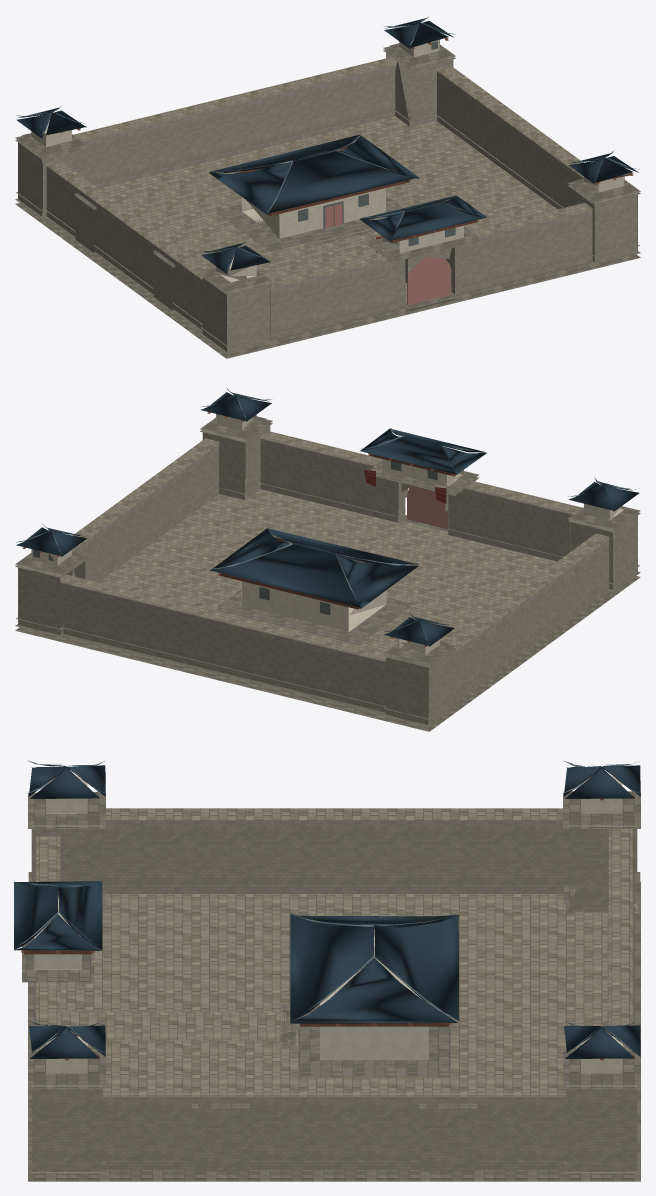
File: city-jade-1.glb
3 views of the same model, one above another, from view 1: azimuth 30°, elevation 25°; view 2: azimuth 150°, elevation 25°; view 3: azimuth 270°, elevation 25° (orthographic). The views are drawn at different scales.
Visible parts, largest first — view 1: 城墙与城门 · 城池 · 青砖墙, 城墙与城门 · 城池 · 石板铺地, 角楼 · 城池 · 青砖墙, 城内建筑 · 城池 · 青瓦, 城墙与城门 · 城池 · 深色石基, 角楼 · 城池 · 深色石基, 角楼 · 城池 · 青瓦, 城墙与城门 · 城池 · 青瓦, 城内建筑 · 城池 · 深色石基, 城内建筑 · 城池 · 灰浆墙, 城墙与城门 · 城池 · 暗红门扇, 角楼 · 城池 · 灰浆墙 (+3 smaller); view 2: 城墙与城门 · 城池 · 青砖墙, 城墙与城门 · 城池 · 石板铺地, 角楼 · 城池 · 青砖墙, 城内建筑 · 城池 · 青瓦, 城墙与城门 · 城池 · 深色石基, 角楼 · 城池 · 青瓦, 角楼 · 城池 · 深色石基, 城内建筑 · 城池 · 灰浆墙, 城墙与城门 · 城池 · 青瓦, 城内建筑 · 城池 · 深色石基, 城内建筑 · 城池 · 石板铺地, 角楼 · 城池 · 灰浆墙 (+3 smaller); view 3: 城墙与城门 · 城池 · 石板铺地, 城墙与城门 · 城池 · 青砖墙, 城内建筑 · 城池 · 青瓦, 角楼 · 城池 · 青砖墙, 城墙与城门 · 城池 · 深色石基, 角楼 · 城池 · 青瓦, 角楼 · 城池 · 深色石基, 城墙与城门 · 城池 · 青瓦, 城内建筑 · 城池 · 石板铺地, 城内建筑 · 城池 · 深色石基, 城内建筑 · 城池 · 灰浆墙, 角楼 · 城池 · 灰浆墙 (+4 smaller).
Boxes of the visible parts, x1,y1,x2,y2 form: 城墙与城门 · 城池 · 青砖墙: (42, 63, 595, 339); 城墙与城门 · 城池 · 石板铺地: (42, 57, 595, 302); 角楼 · 城池 · 青砖墙: (18, 53, 637, 351); 城内建筑 · 城池 · 青瓦: (209, 134, 418, 214); 城墙与城门 · 城池 · 深色石基: (15, 106, 640, 358); 角楼 · 城池 · 深色石基: (15, 43, 640, 353); 角楼 · 城池 · 青瓦: (16, 18, 638, 273); 城墙与城门 · 城池 · 青瓦: (360, 195, 486, 241); 城内建筑 · 城池 · 深色石基: (217, 196, 403, 251); 城内建筑 · 城池 · 灰浆墙: (242, 188, 386, 238); 城墙与城门 · 城池 · 暗红门扇: (407, 256, 451, 305); 角楼 · 城池 · 灰浆墙: (31, 39, 624, 282); 城墙与城门 · 城池 · 青砖墙: (60, 437, 613, 712); 城墙与城门 · 城池 · 石板铺地: (60, 431, 613, 668); 角楼 · 城池 · 青砖墙: (18, 426, 637, 724); 城内建筑 · 城池 · 青瓦: (209, 528, 418, 608); 城墙与城门 · 城池 · 深色石基: (15, 460, 640, 731); 角楼 · 城池 · 青瓦: (16, 392, 639, 646); 角楼 · 城池 · 深色石基: (15, 416, 640, 726); 城内建筑 · 城池 · 灰浆墙: (241, 581, 386, 632); 城墙与城门 · 城池 · 青瓦: (360, 428, 486, 474); 城内建筑 · 城池 · 深色石基: (217, 589, 411, 644); 城内建筑 · 城池 · 石板铺地: (354, 521, 445, 562); 角楼 · 城池 · 灰浆墙: (31, 414, 623, 654); 城墙与城门 · 城池 · 石板铺地: (36, 808, 632, 1096); 城墙与城门 · 城池 · 青砖墙: (102, 818, 608, 1171); 城内建筑 · 城池 · 青瓦: (290, 914, 458, 1023); 角楼 · 城池 · 青砖墙: (31, 825, 637, 1172); 城墙与城门 · 城池 · 深色石基: (22, 879, 640, 1181); 角楼 · 城池 · 青瓦: (29, 765, 640, 1058); 角楼 · 城池 · 深色石基: (28, 791, 640, 1173); 城墙与城门 · 城池 · 青瓦: (14, 881, 102, 950); 城内建筑 · 城池 · 石板铺地: (60, 1012, 285, 1040); 城内建筑 · 城池 · 深色石基: (280, 1002, 450, 1077); 城内建筑 · 城池 · 灰浆墙: (320, 936, 428, 1060); 角楼 · 城池 · 灰浆墙: (46, 776, 622, 1073).
Bounding box in the file's own units: 51.99 × 11.56 × 46.95.
Materials: 11 (7 with a texture image).
